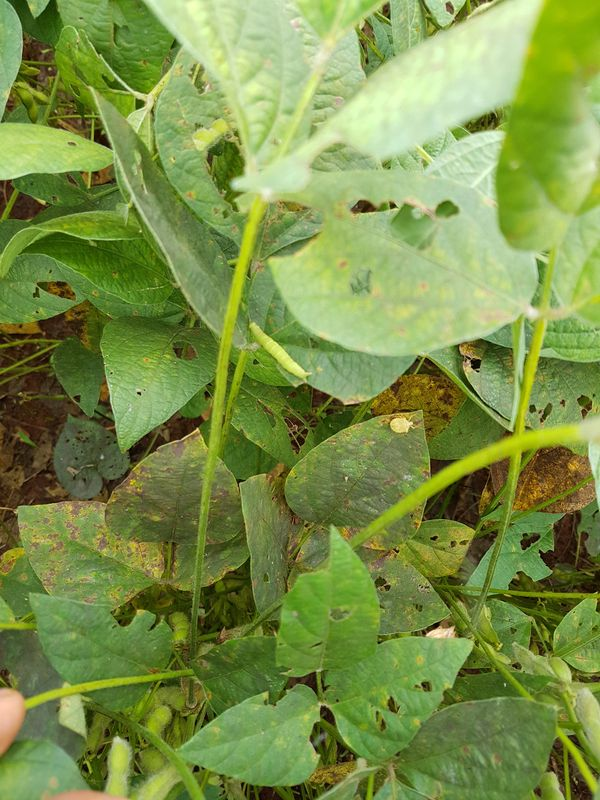Anticarsia_gemmatalis: (239, 317, 320, 393)
Euschistus_heros_ninfa: (383, 408, 424, 444)
